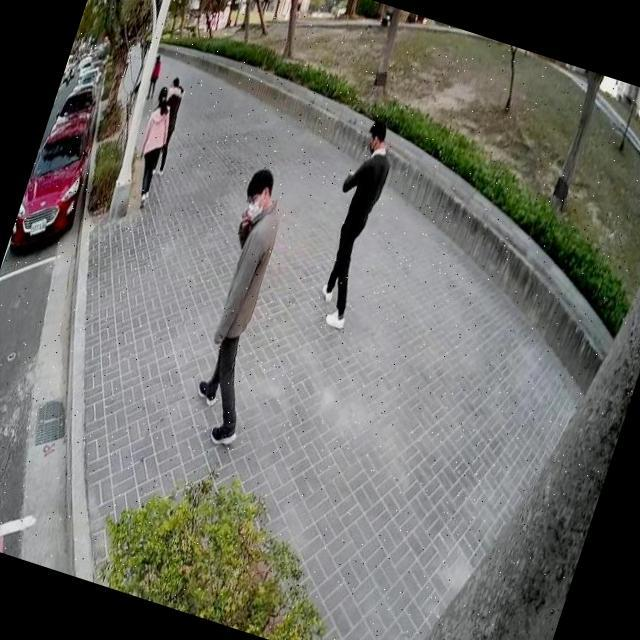person: (166, 156, 324, 454), (298, 106, 414, 335), (120, 80, 188, 212), (140, 70, 198, 180), (140, 49, 170, 106)
